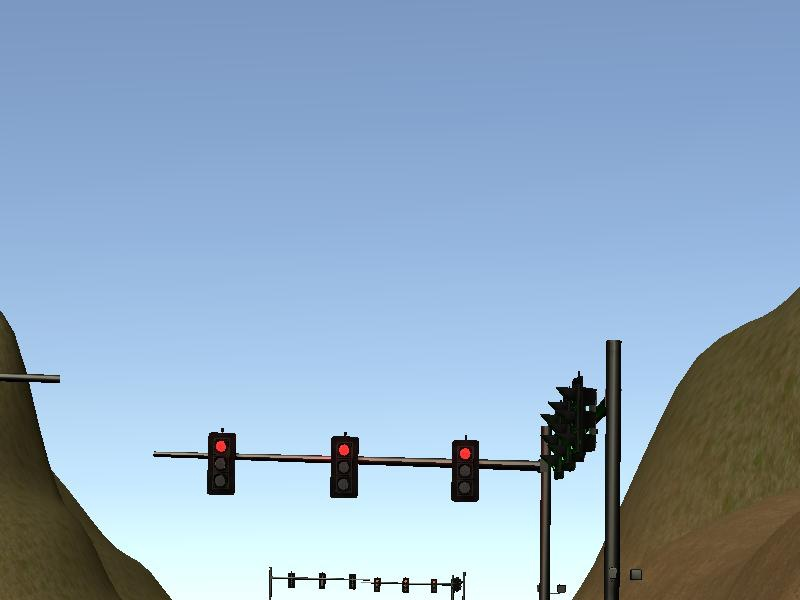Red: (450, 438, 481, 503), (329, 434, 360, 499), (204, 432, 235, 497)
